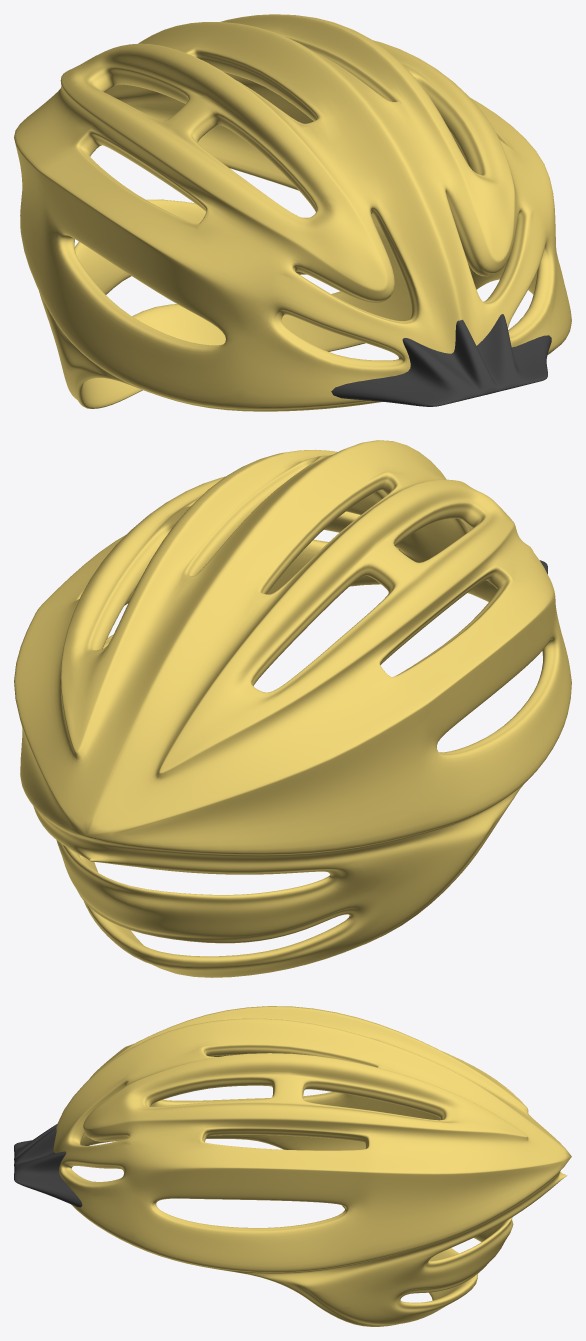
The model's file is helmet2-yellow2.glb.
The picture shows the model from 3 angles, top to bottom: view 1: azimuth 30°, elevation 25°; view 2: azimuth 150°, elevation 25°; view 3: azimuth 270°, elevation 25°; orthographic projection. The views are drawn at different scales.
Parts seen in each view (by area): view 1: 11723_helmet_sg; view 2: 11723_helmet_sg; view 3: 11723_helmet_sg.
Part boxes in pixels (left/top/right/bottom): 11723_helmet_sg: left=14, top=14, right=571, bottom=411; 11723_helmet_sg: left=14, top=440, right=571, bottom=977; 11723_helmet_sg: left=14, top=1006, right=571, bottom=1326.
Size of the model in its own units: 0.1521 by 0.1423 by 0.2539.
